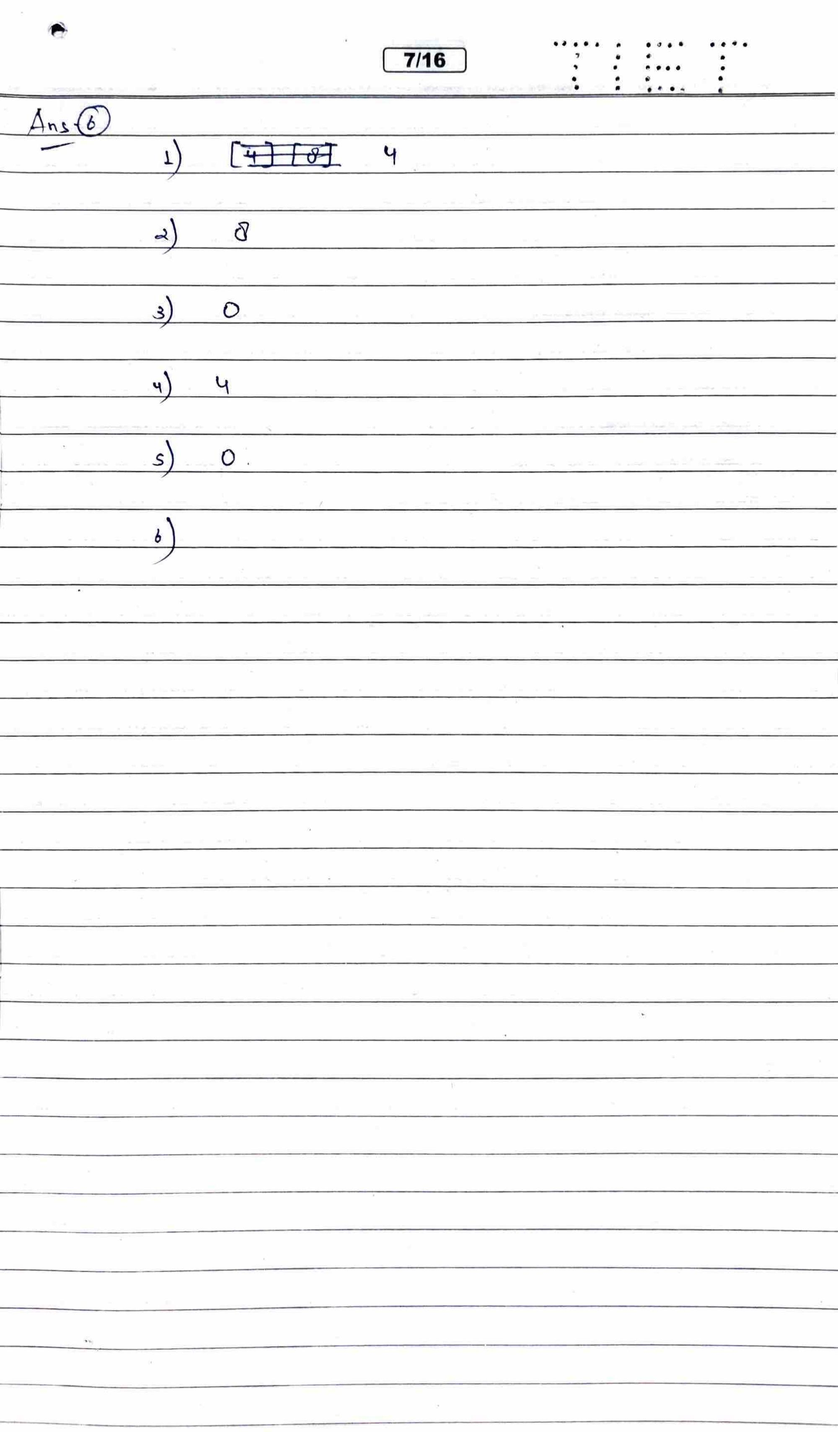cuttings: (229, 140, 342, 169)
